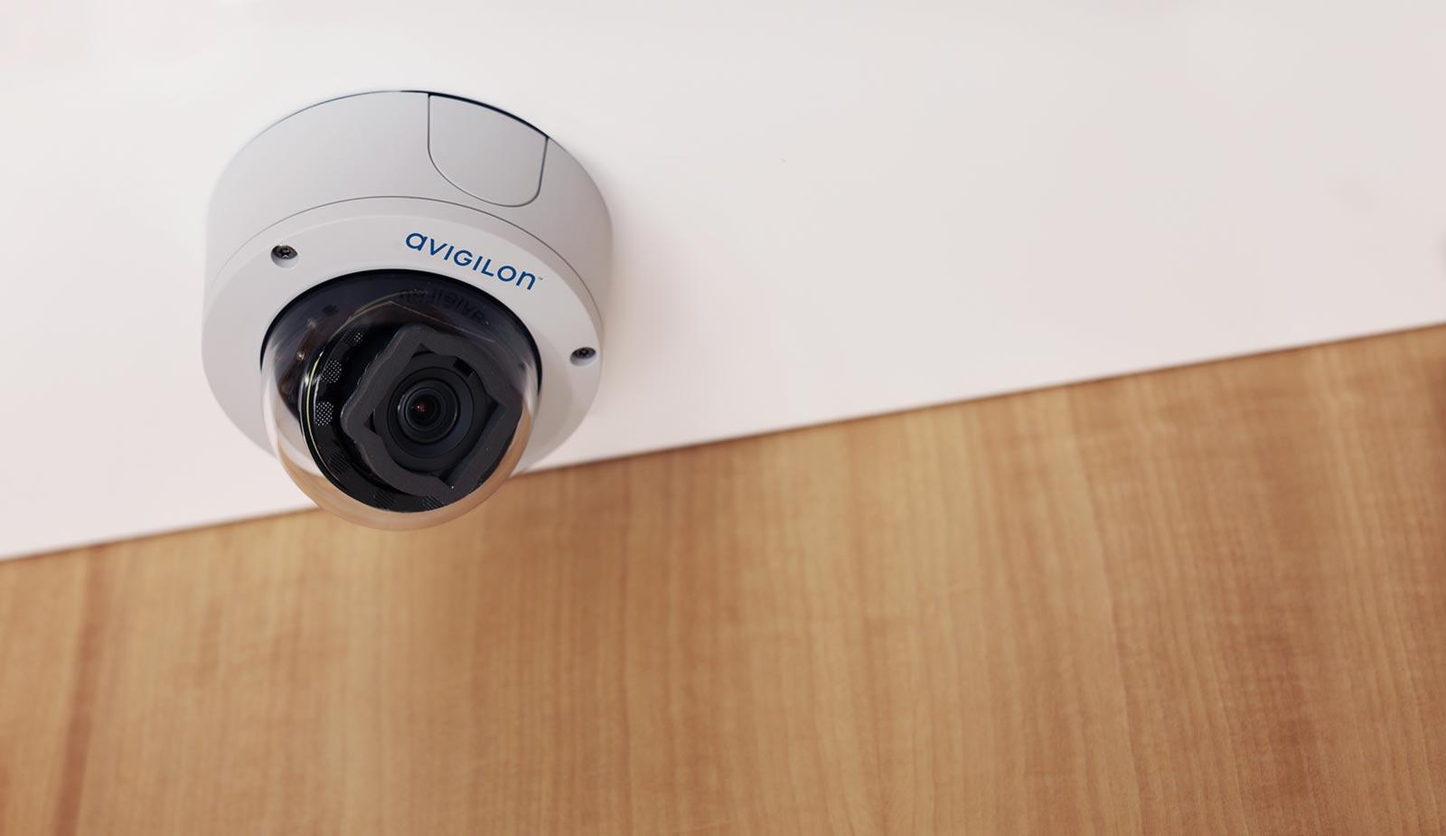CCTV: (201, 89, 611, 529)
